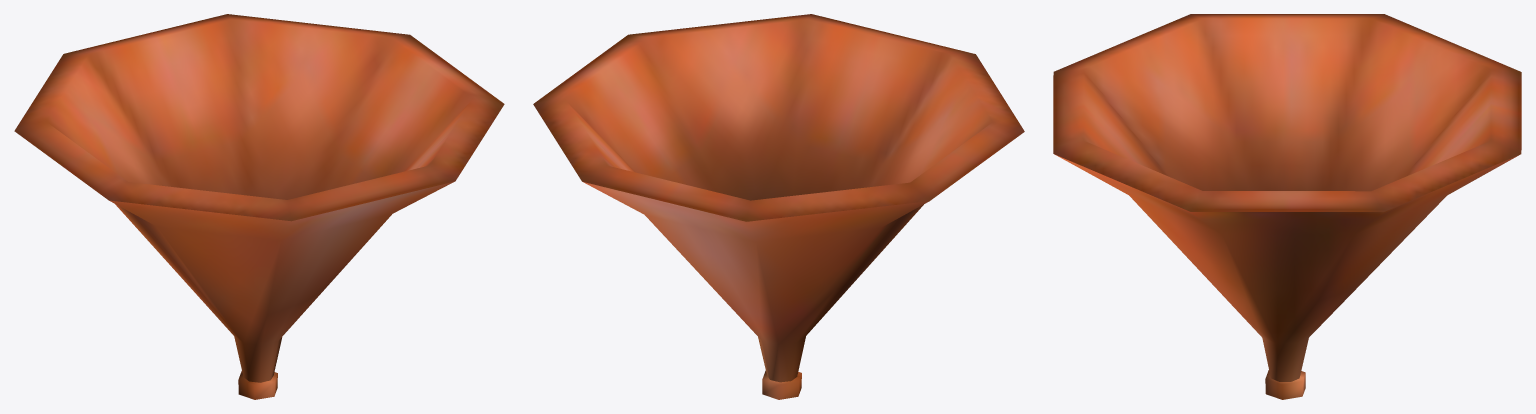
File: fog_horn.glb
3 renders of one model, left to right at view 1: azimuth 30°, elevation 25°; view 2: azimuth 150°, elevation 25°; view 3: azimuth 270°, elevation 25°, orthographic. The views are drawn at different scales.
Visible parts, largest first — view 1: inside, outside, base; view 2: inside, outside, base; view 3: inside, outside, base.
Part boxes in pixels (x1,y1,x2,y2): inside: (14,14,504,221); outside: (109,181,454,382); base: (238,371,277,399); inside: (533,14,1024,221); outside: (583,182,928,382); base: (762,370,801,399); inside: (1053,14,1521,211); outside: (1054,154,1518,381); base: (1265,370,1305,399).
Bounding box in the file's own units: 7.39 × 5 × 7.39.
3 materials, 3 textured.
